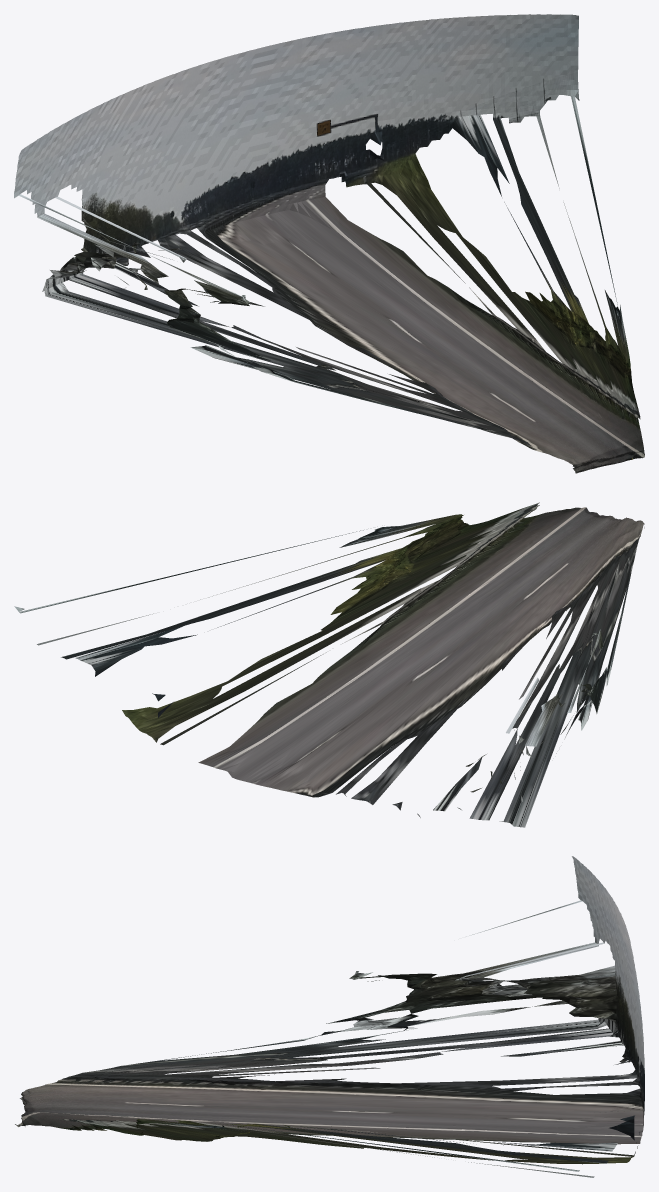
3 renders of one model, top to bottom at view 1: azimuth 30°, elevation 25°; view 2: azimuth 150°, elevation 25°; view 3: azimuth 270°, elevation 25°, orthographic. The views are drawn at different scales.
Parts seen in each view (by area): view 1: defaultobject; view 2: defaultobject; view 3: defaultobject.
Part boxes in pixels (x1,y1,x2,y2): defaultobject: [14, 14, 644, 473]; defaultobject: [14, 502, 644, 827]; defaultobject: [15, 856, 644, 1177].
Bounding box in the file's own units: 40.98 × 12.43 × 44.68.
Materials: 1 (1 with a texture image).
